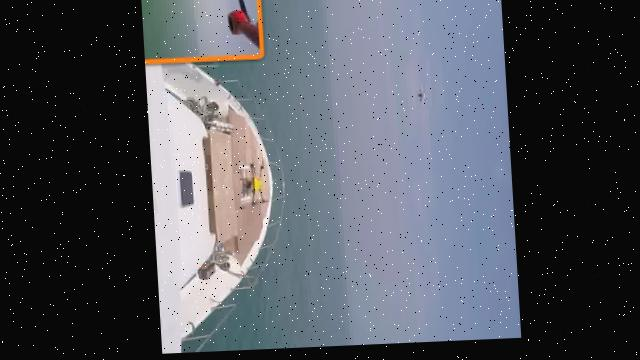drone: (401, 70, 435, 133)
